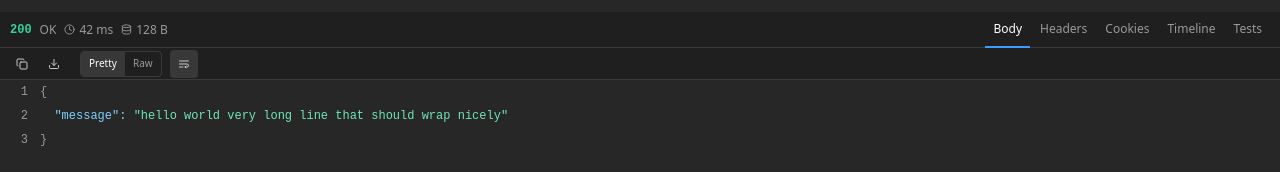
ResponseViewer › toggles soft wrap when clicking the toggle button
The width and height of the screenshot is (1280, 172).
What coordinates should you click on to do the following:
click the button titled "Disable soft wrap"
I would click on:
 (184, 64)
Its box is [170,50,198,78].
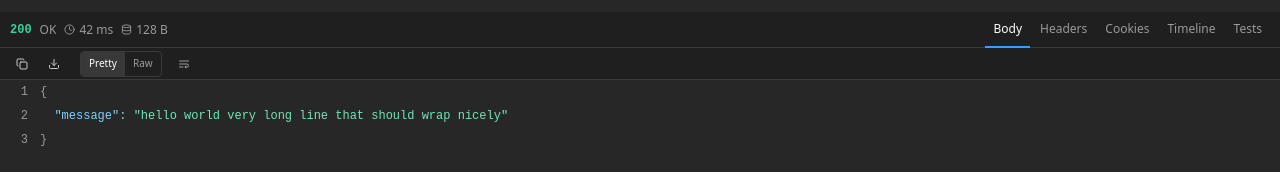
Expected: the button titled "Enable soft wrap" is shown
Click again to re-enable
What coordinates should you click on to do the following:
click the button titled "Enable soft wrap"
I would click on:
 (184, 64)
Its box is [170,50,198,78].
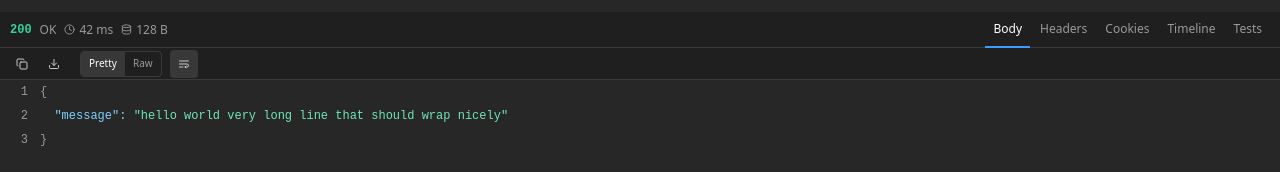
Expected: the button titled "Disable soft wrap" is shown, [170,50,198,78]
